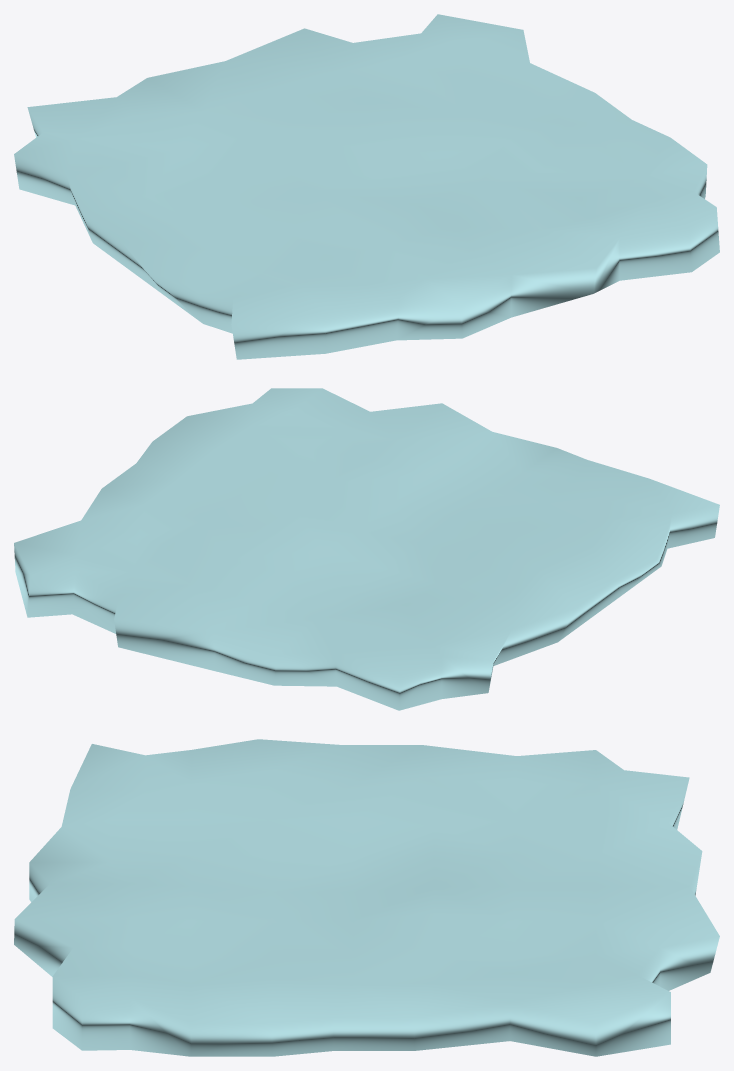
Rendered from iceberg.dae.
3 views of the same model, one above another, from view 1: azimuth 30°, elevation 25°; view 2: azimuth 150°, elevation 25°; view 3: azimuth 270°, elevation 25° (orthographic). The views are drawn at different scales.
Parts seen in each view (by area): view 1: Iceplatform; view 2: Iceplatform; view 3: Iceplatform.
Boxes of the visible parts, bbox=[...] form: Iceplatform: bbox=[14, 14, 719, 359]; Iceplatform: bbox=[14, 388, 719, 710]; Iceplatform: bbox=[14, 739, 719, 1056].
Size of the model in its own units: 130 by 136 by 12.99.
